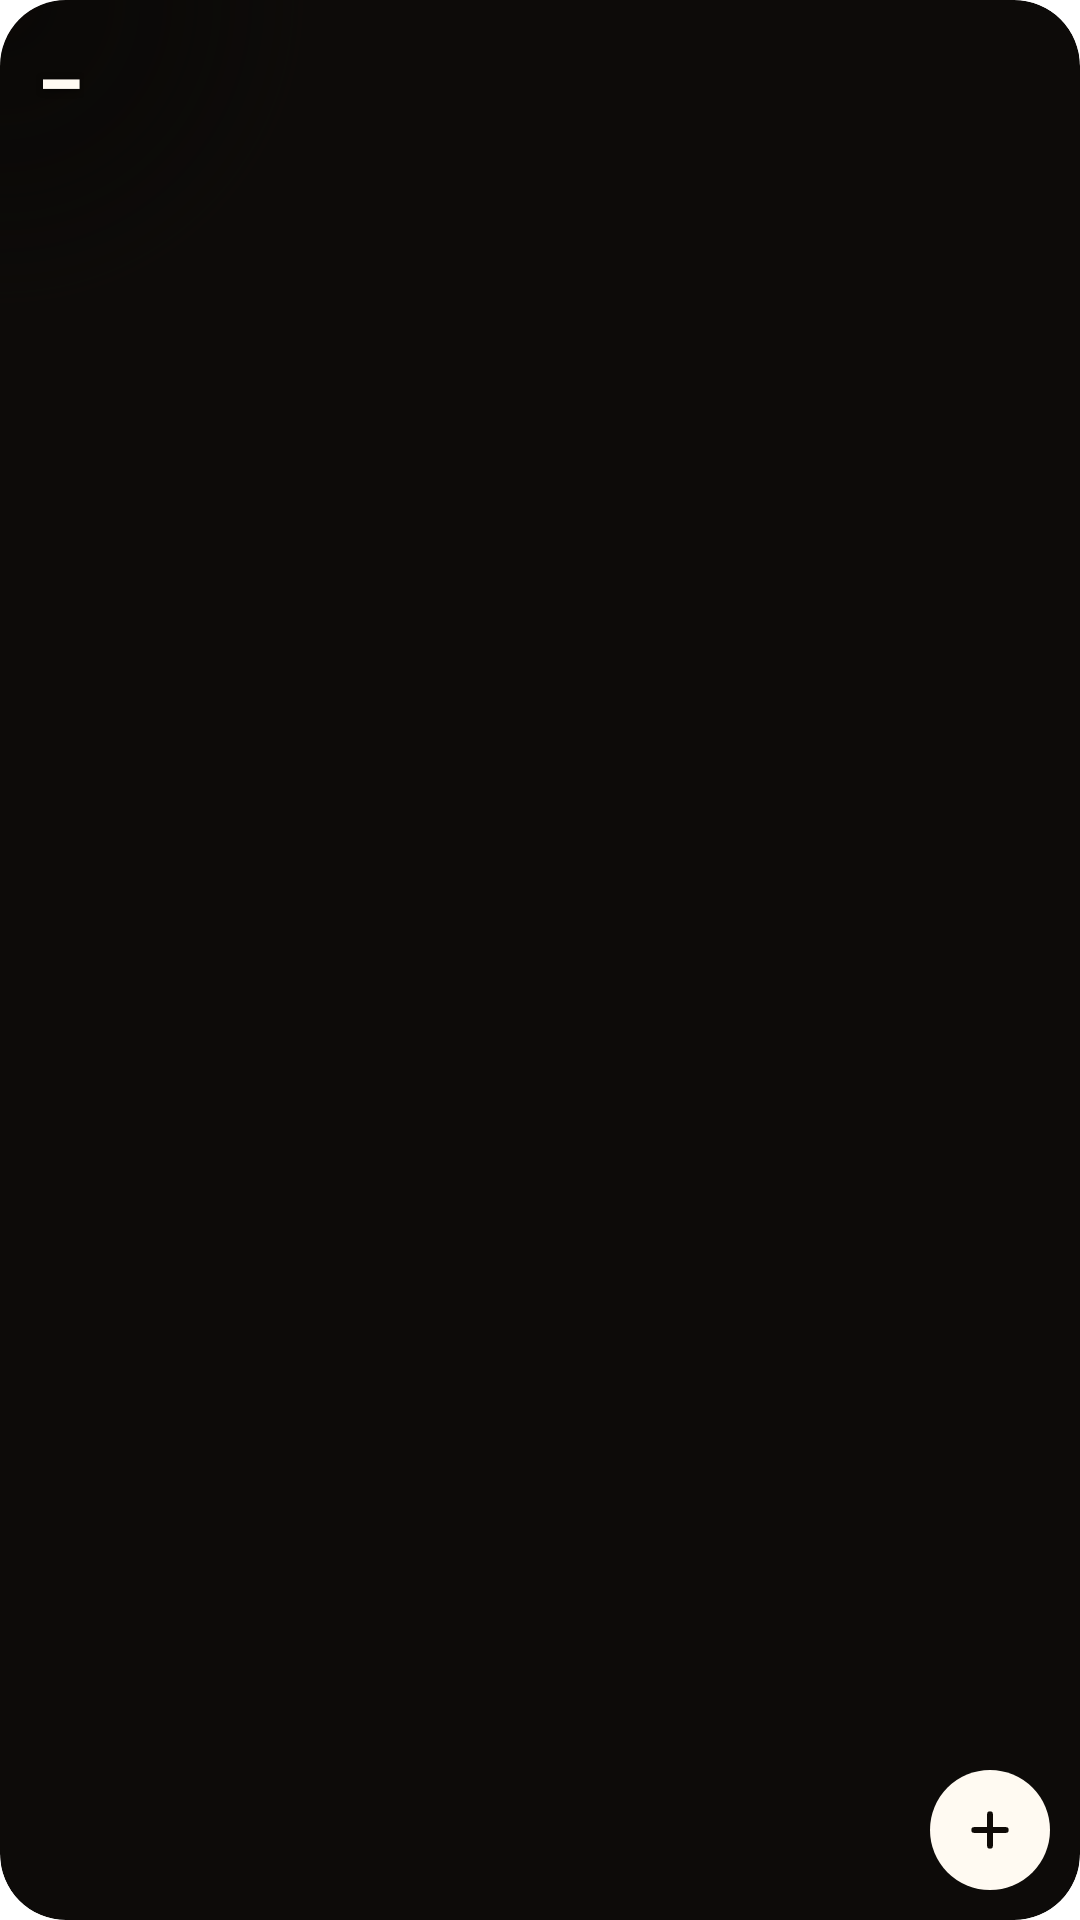

Screen size 1080px x 1920px. Icon name, then its center in pixels as (x,y):
New chat: (990,1830)
